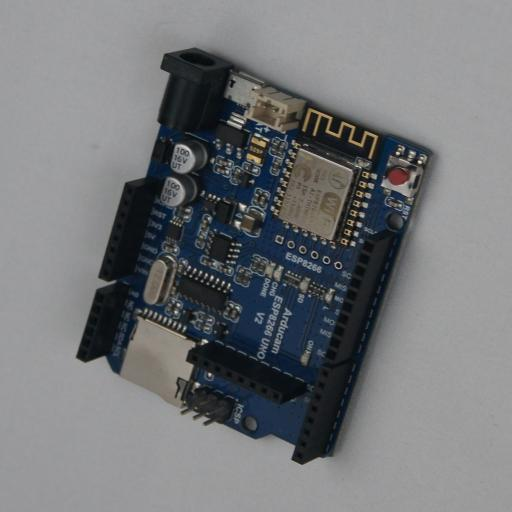Arduino Uno Camera Shield: (76, 48, 434, 464)
